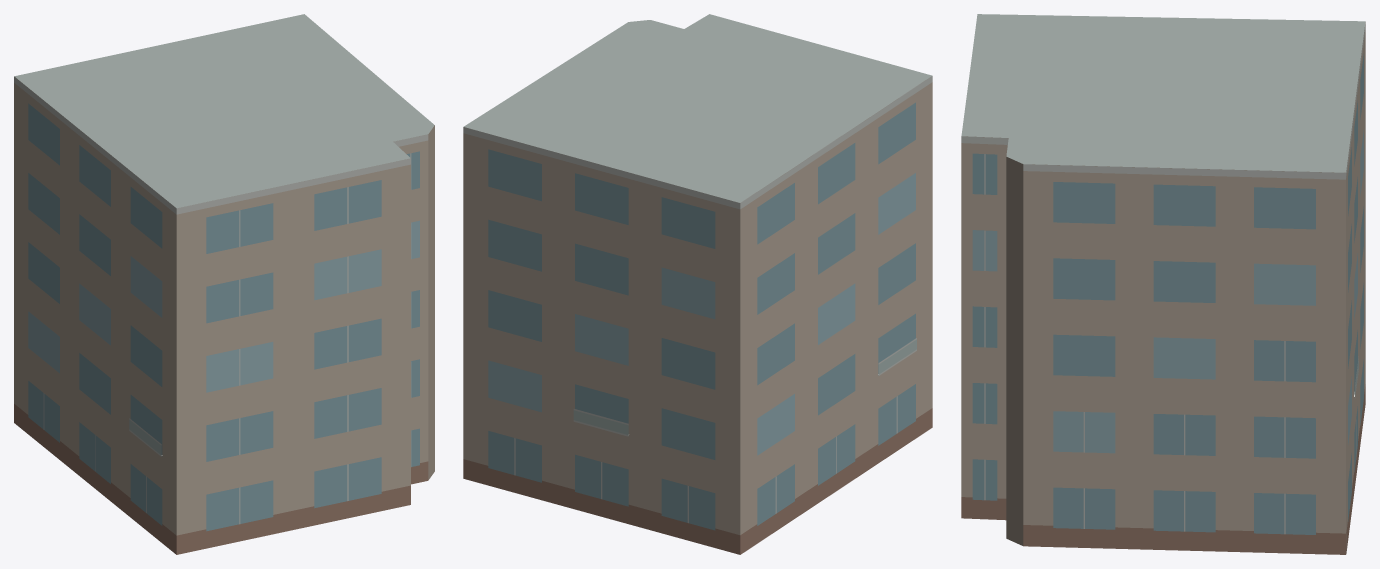
The model's file is survey-upis-32527450.glb.
3 views of the same model, side by side, from view 1: azimuth 30°, elevation 25°; view 2: azimuth 150°, elevation 25°; view 3: azimuth 270°, elevation 25° (orthographic). The views are drawn at different scales.
Parts seen in each view (by area): view 1: survey-upis-32527450.tmp; view 2: survey-upis-32527450.tmp; view 3: survey-upis-32527450.tmp.
Boxes of the visible parts, <box> form: survey-upis-32527450.tmp: <box>14,14,434,554</box>; survey-upis-32527450.tmp: <box>463,14,932,554</box>; survey-upis-32527450.tmp: <box>961,14,1365,554</box>.
Bounding box in the file's own units: 12.04 × 13.5 × 12.95.
